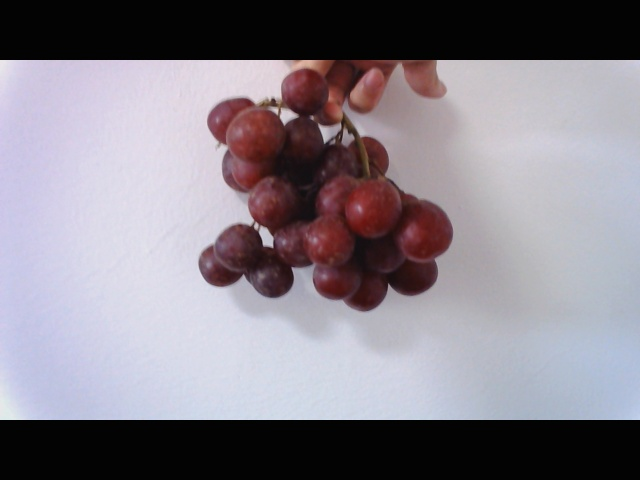grape: (178, 89, 452, 315)
